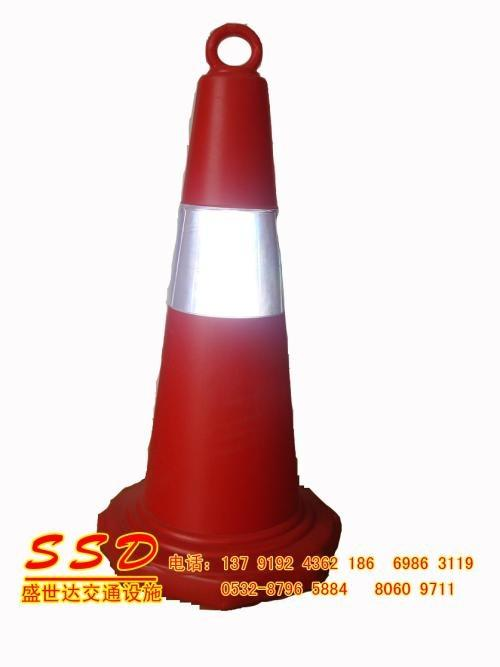cone_barrel: (124, 23, 328, 563)
